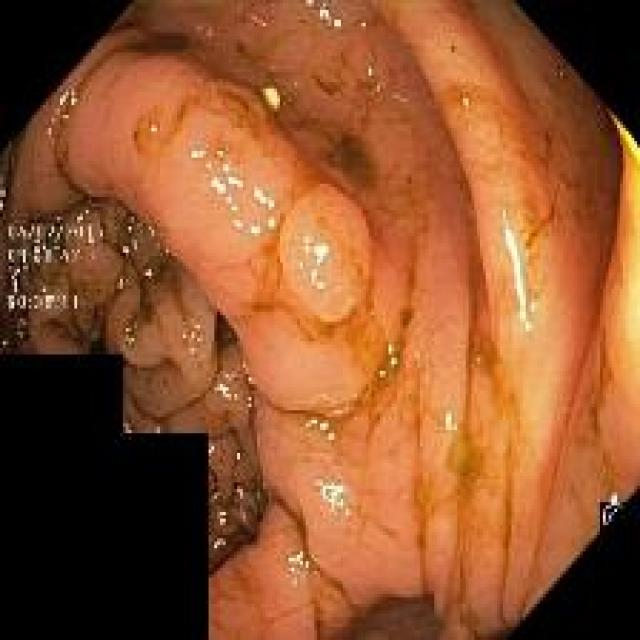Polyps: (278, 185, 371, 324)
